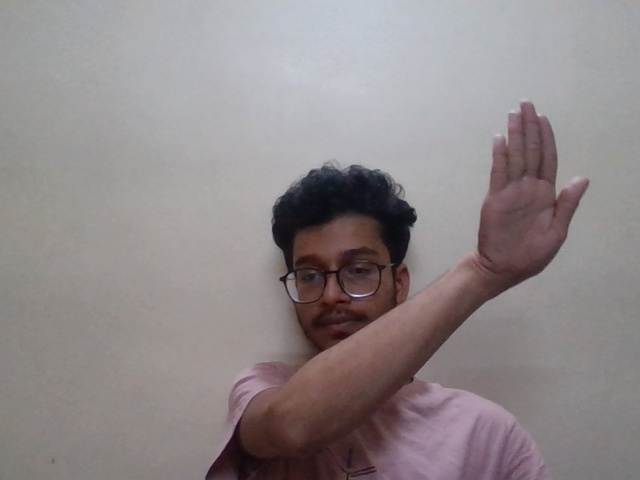hello: (454, 97, 603, 316)
